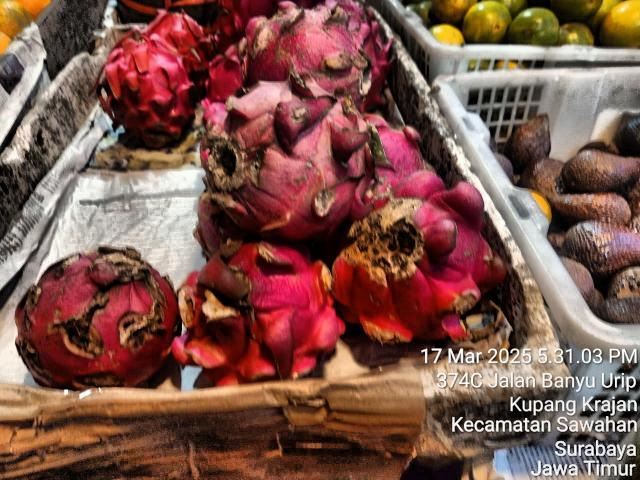buah-naga-matang: (340, 163, 498, 351), (10, 234, 182, 390), (166, 238, 342, 388), (193, 86, 373, 228), (231, 6, 383, 104), (92, 30, 206, 156), (362, 112, 432, 188), (140, 7, 212, 75)
